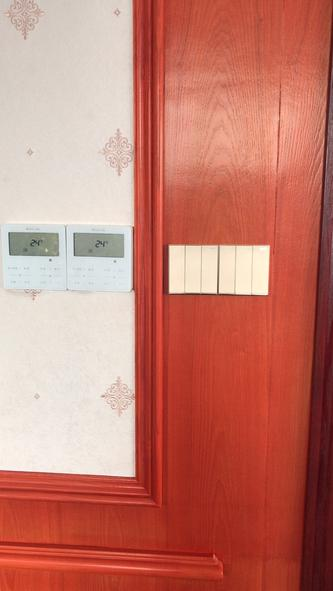switch: (252, 244, 271, 295), (234, 245, 252, 296), (168, 244, 186, 293), (184, 244, 202, 292), (202, 244, 219, 294), (220, 243, 235, 295)
